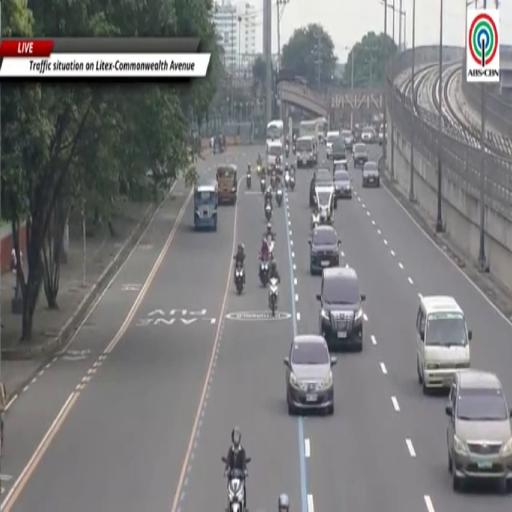bus: (267, 120, 284, 145), (300, 120, 318, 142), (316, 118, 328, 142)
car: (446, 370, 511, 491), (416, 296, 471, 392), (285, 334, 336, 414), (317, 267, 365, 351), (309, 226, 340, 275), (309, 168, 333, 206), (334, 169, 352, 198), (362, 162, 380, 187), (331, 137, 347, 161), (353, 143, 368, 167), (326, 132, 339, 158), (340, 130, 354, 151), (361, 126, 375, 143), (334, 157, 348, 172), (378, 124, 384, 146)
jeepney: (194, 180, 218, 230), (217, 165, 237, 204)
motorcycle: (227, 469, 247, 511), (269, 278, 278, 316), (235, 263, 244, 294), (259, 261, 269, 286), (266, 236, 274, 260), (311, 213, 320, 229), (265, 203, 272, 221), (276, 188, 282, 206), (290, 175, 296, 191), (260, 178, 266, 193), (285, 172, 290, 189), (271, 172, 276, 188), (247, 173, 251, 188), (285, 143, 289, 158), (257, 165, 261, 177), (292, 143, 296, 155)
